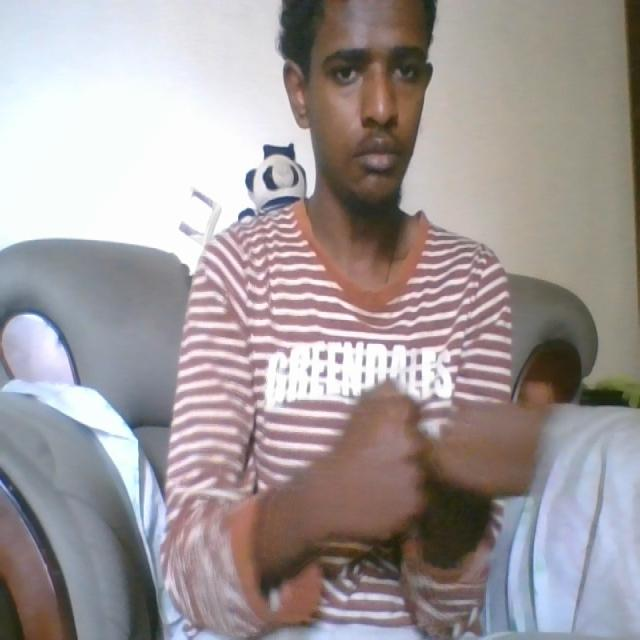beg: (304, 371, 562, 541)
